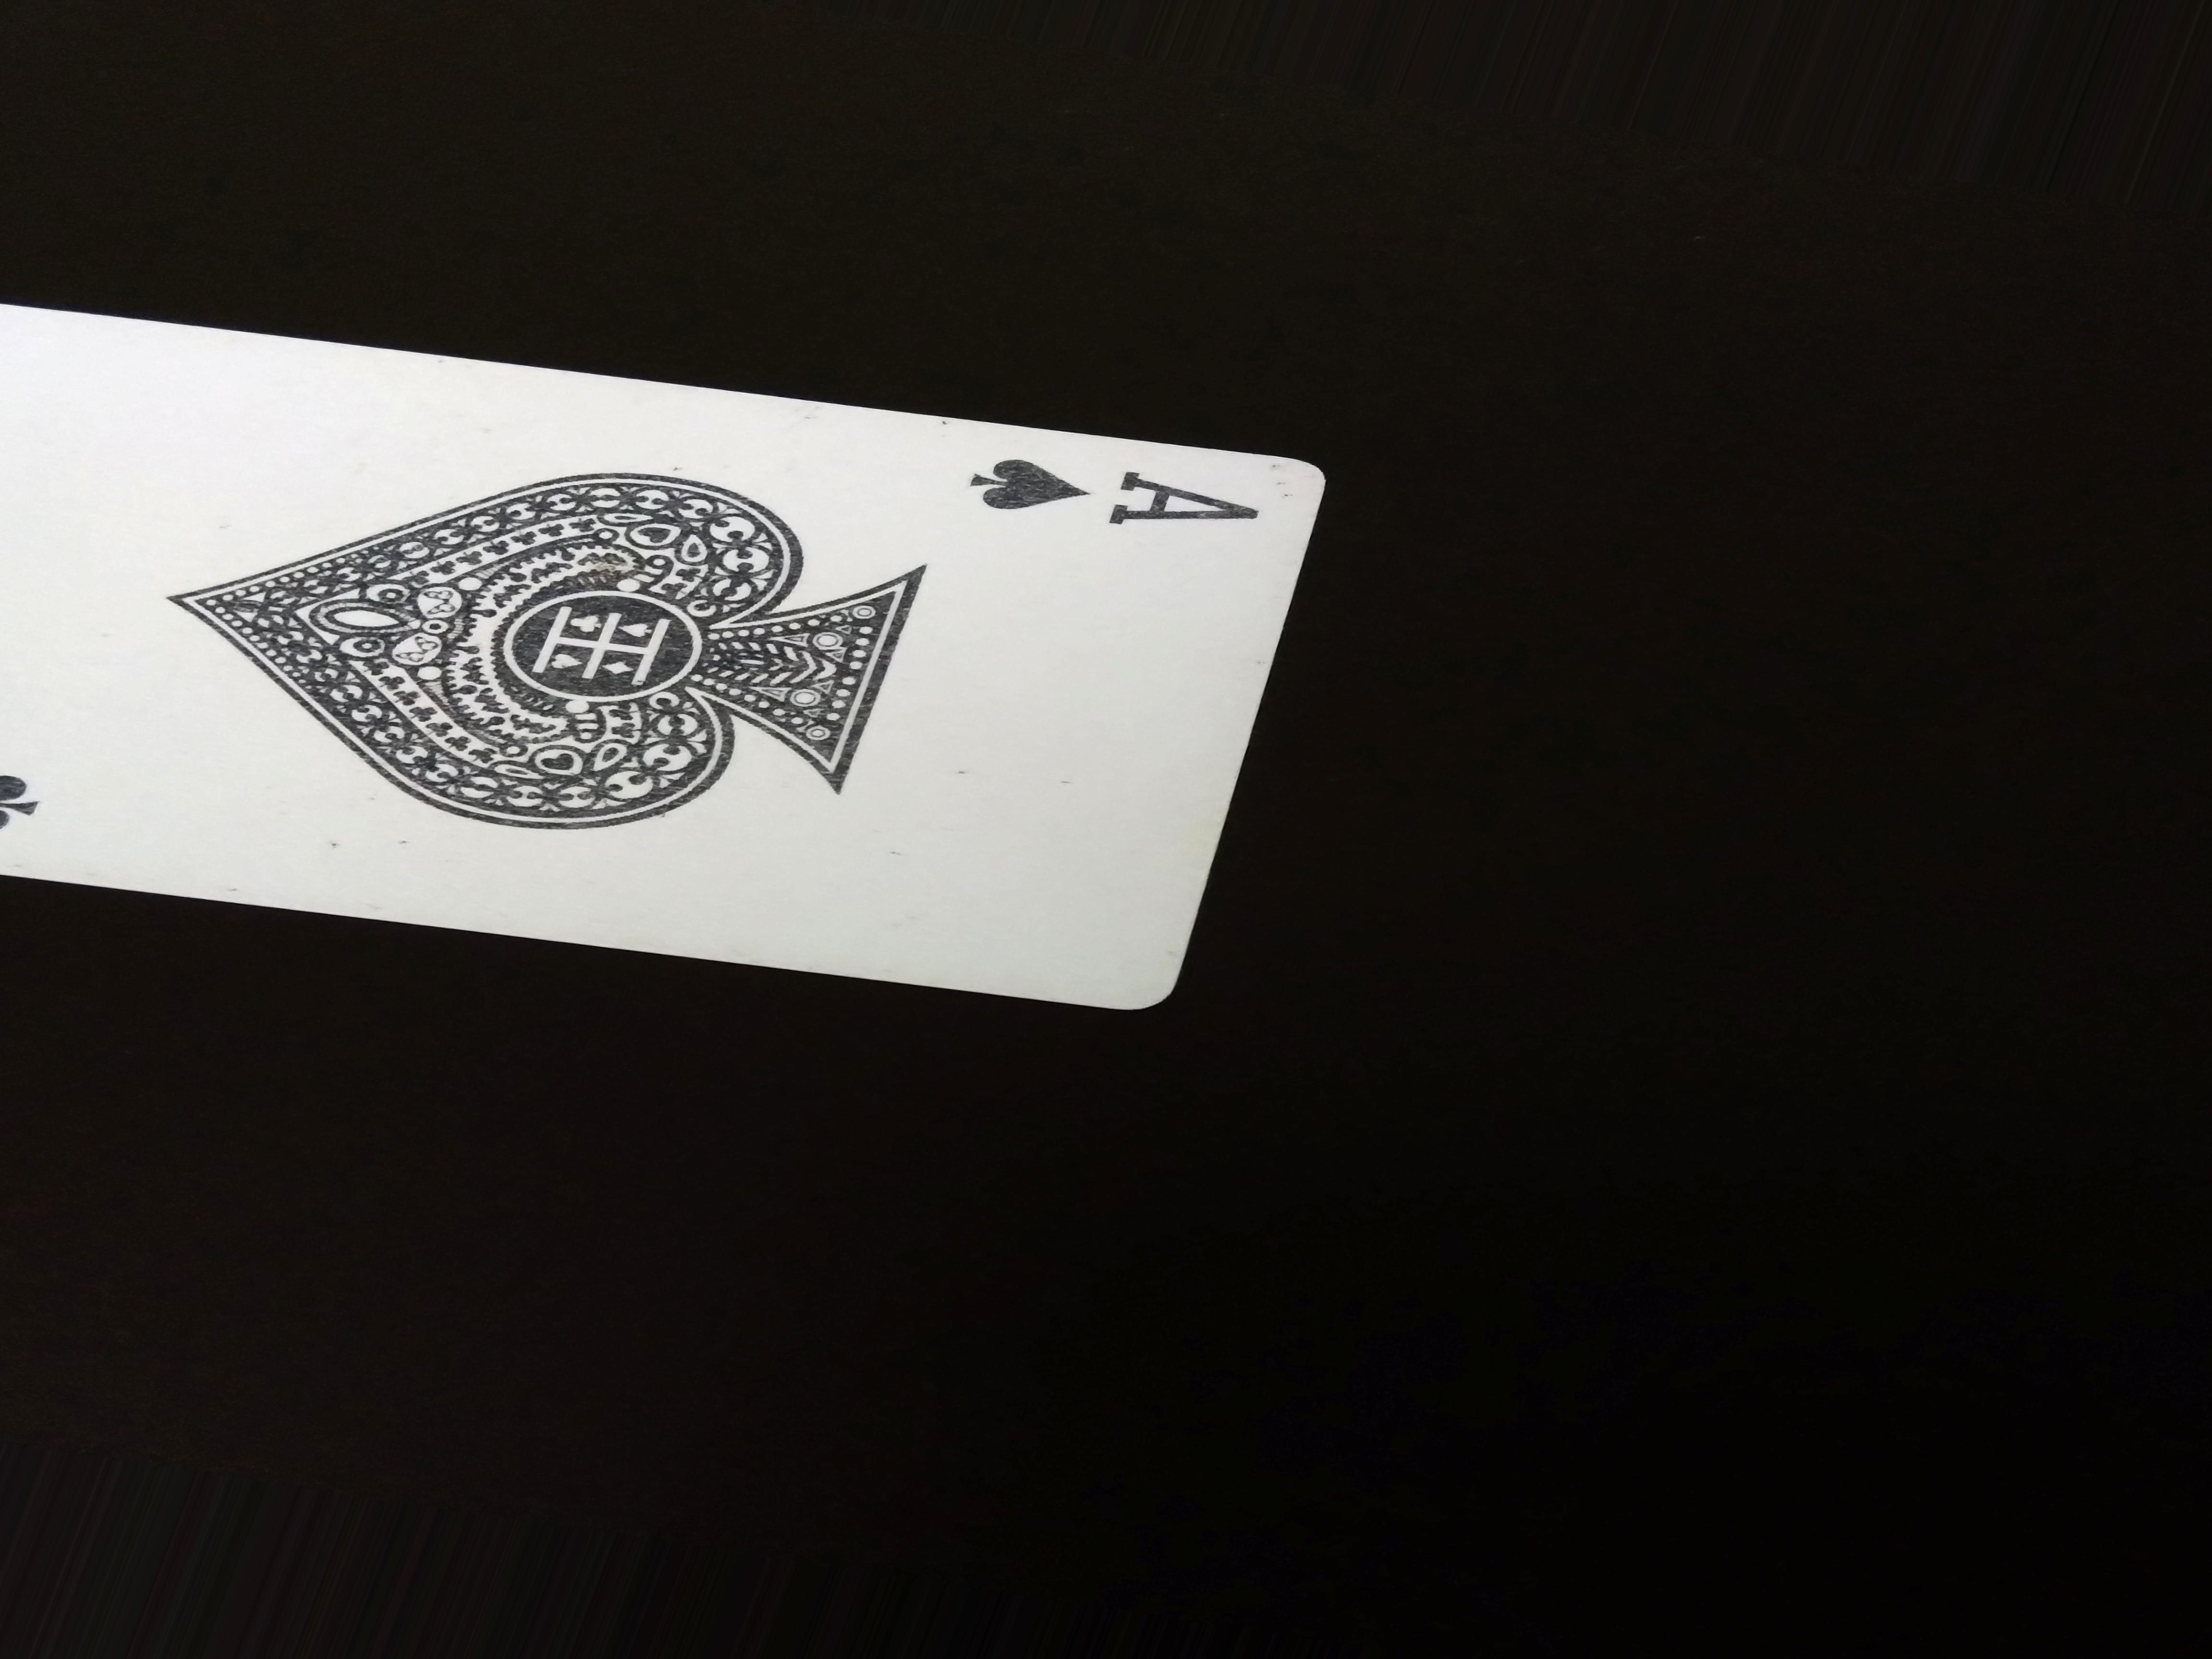AS: (944, 444, 1278, 568)
